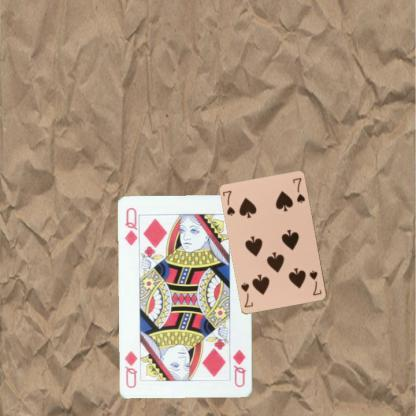7s: (307, 267, 323, 297), (220, 188, 236, 218)
Qd: (122, 205, 141, 250), (230, 347, 247, 388)
